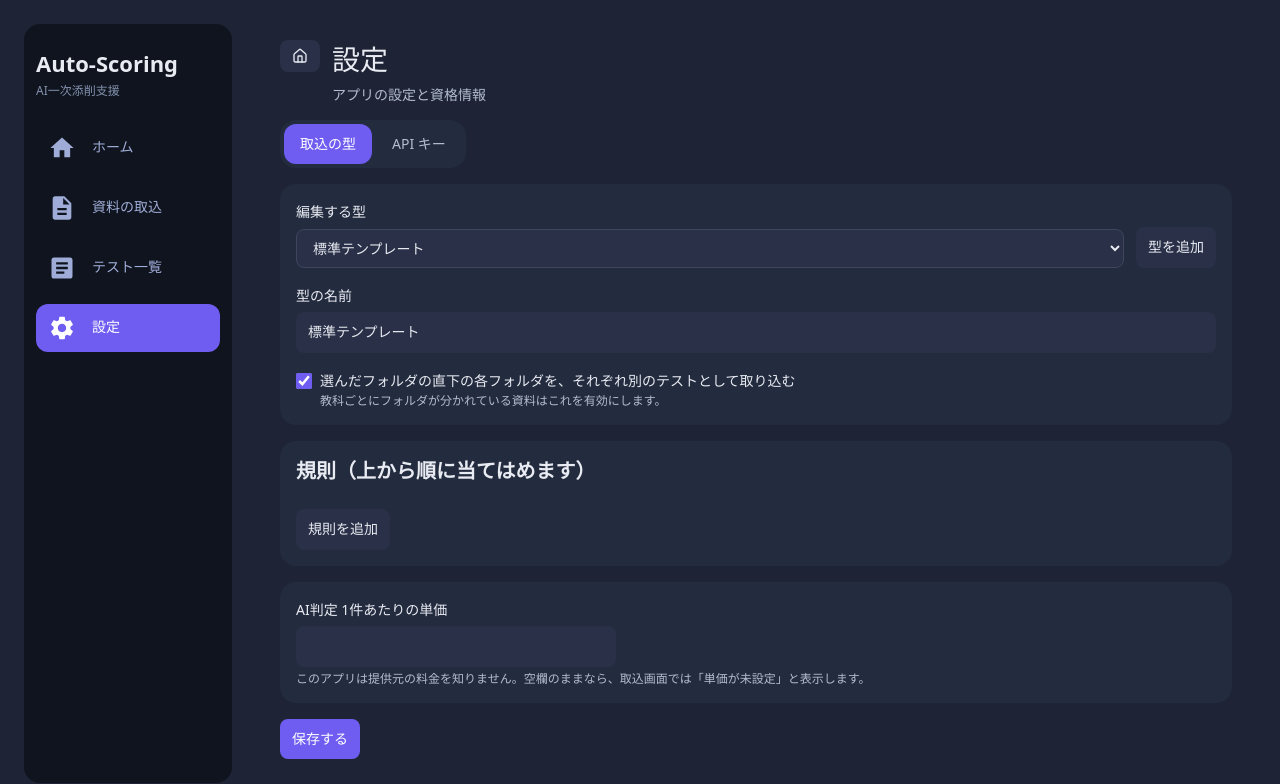
Test case: SettingsPage & ApiKeyTab invariants (INV-107 / Issue #249) › 取込の型タブ: 単価は空欄のまま保存できる（0円と偽らない）
Click the button with test id "settings-save" at (320, 739), box x1=280 y1=719 x2=360 y2=759
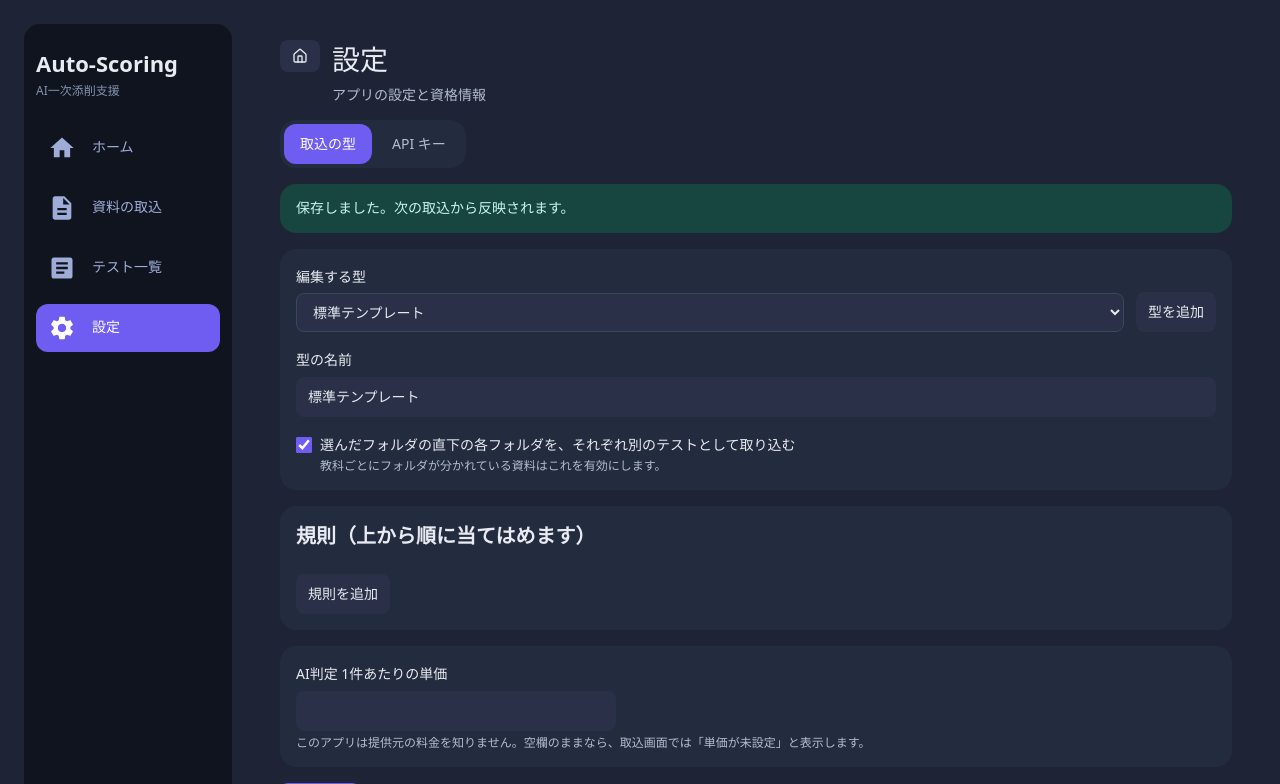
Expected: the message "保存しました。次の取込から反映されます。" is shown, x1=280 y1=184 x2=1232 y2=233
